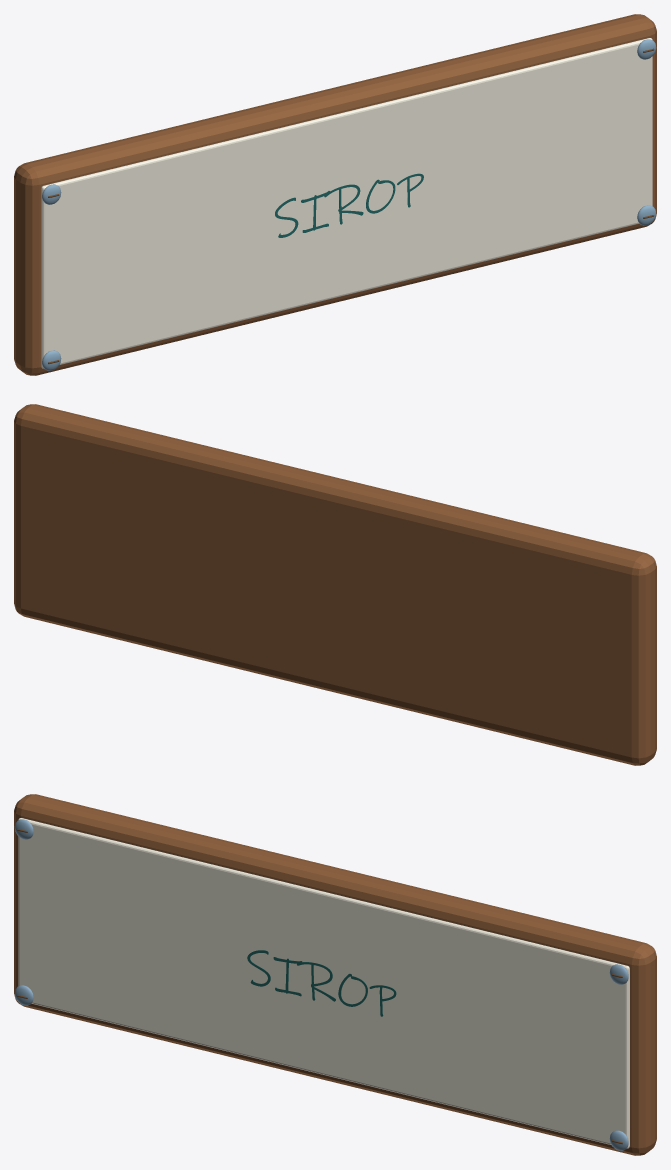
File: syrup_sign.glb
The picture shows the model from 3 angles, top to bottom: view 1: azimuth 30°, elevation 25°; view 2: azimuth 150°, elevation 25°; view 3: azimuth 330°, elevation 25°; orthographic projection.
Parts seen in each view (by area): view 1: Sign_cream_face, Sign_timber, Flat_sign; view 2: Sign_timber; view 3: Sign_cream_face, Sign_timber, Flat_sign.
Boxes of the visible parts, x1,y1,x2,y2 form: Sign_cream_face: (41,38,652,368); Sign_timber: (14,14,656,375); Flat_sign: (275,173,423,237); Sign_timber: (14,404,656,765); Sign_cream_face: (18,818,629,1148); Sign_timber: (14,794,656,1155); Flat_sign: (247,950,396,1016).
Bounding box in the file's own units: 0.8 × 0.25 × 0.0554.
